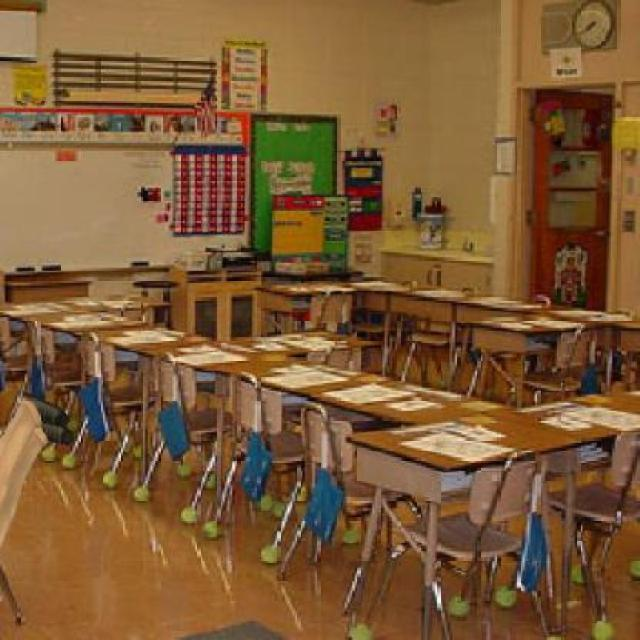Person: (0, 391, 77, 549)
